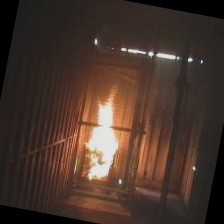fire: (74, 78, 133, 187)
